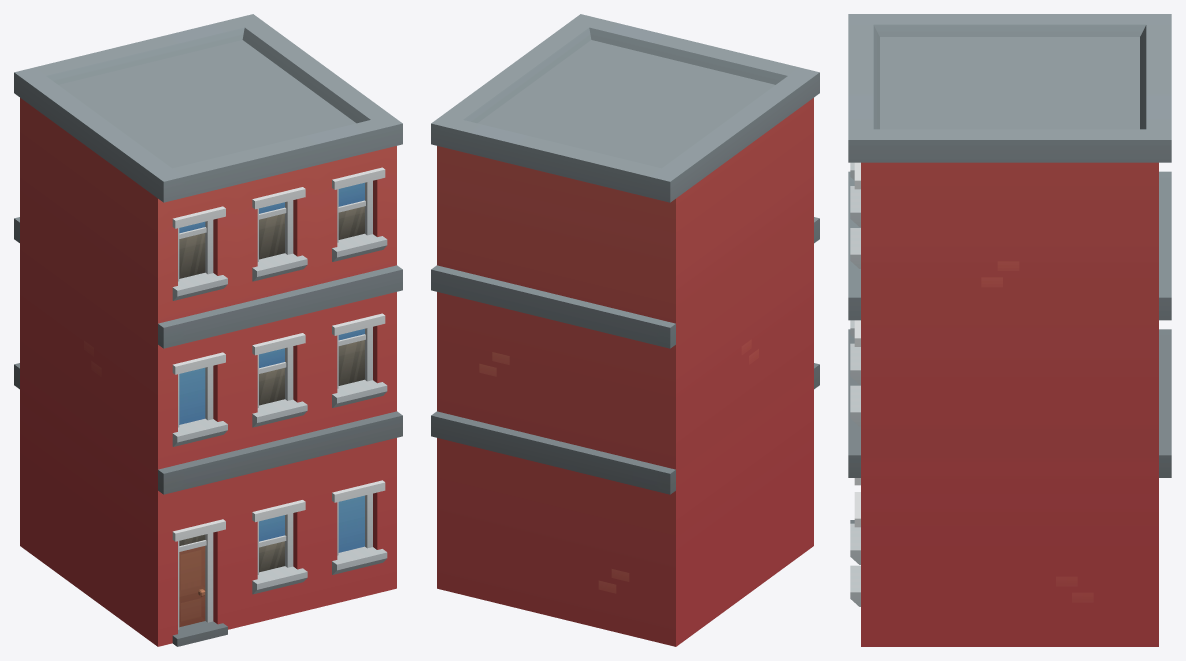
The model's file is shop_c.glb.
3 views of the same model, side by side, from view 1: azimuth 30°, elevation 25°; view 2: azimuth 150°, elevation 25°; view 3: azimuth 270°, elevation 25° (orthographic). The views are drawn at different scales.
Visible parts, largest first — view 1: building_C_withoutBase; view 2: building_C_withoutBase; view 3: building_C_withoutBase.
Part boxes in pixels (x1=…): building_C_withoutBase: x1=14, y1=14, x2=402, y2=646; building_C_withoutBase: x1=431, y1=14, x2=819, y2=646; building_C_withoutBase: x1=848, y1=14, x2=1171, y2=646.
Size of the model in its own units: 1.21 by 2.25 by 1.3.
1 material, 1 textured.
